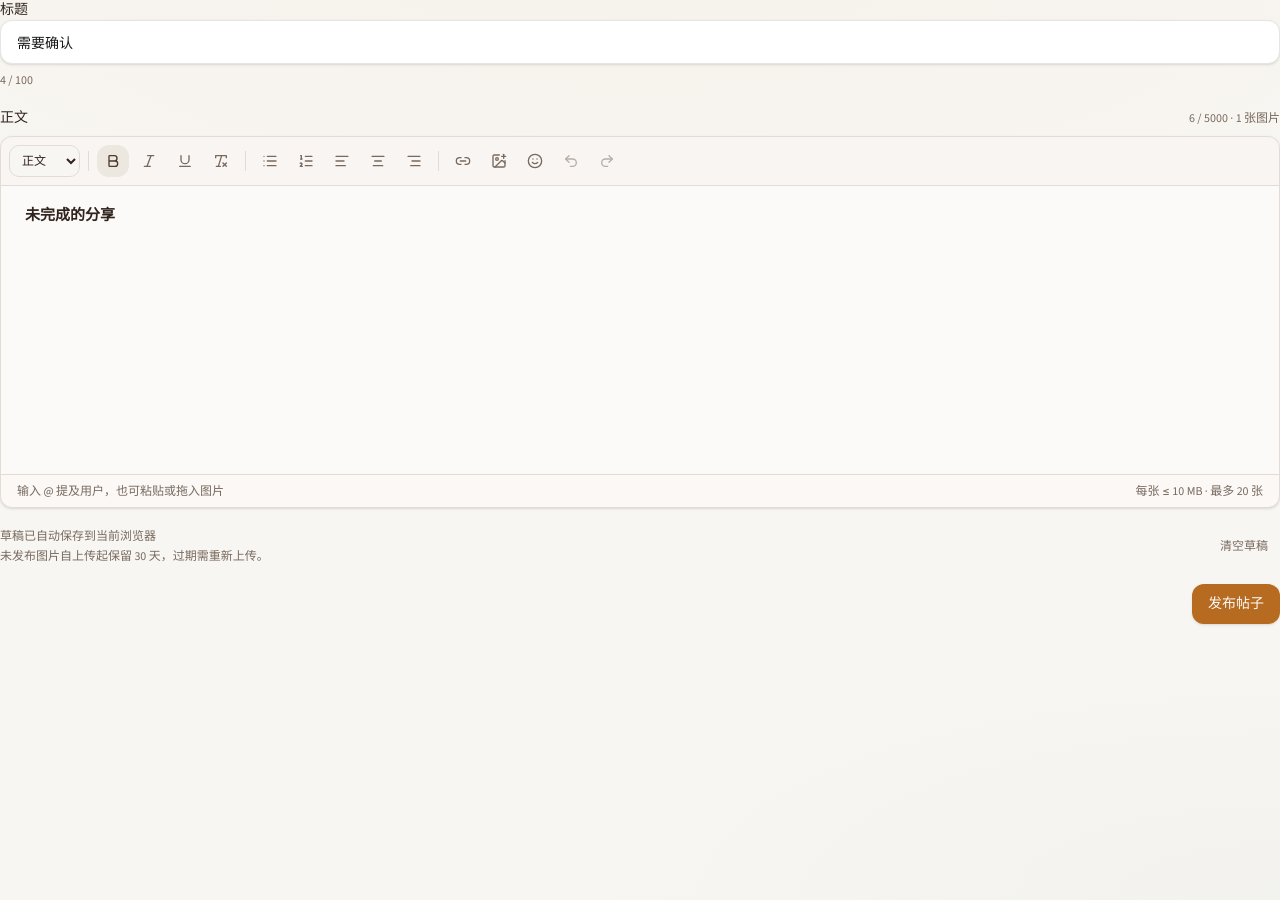
Test: requires confirmation before discarding a draft
Click the button "清空草稿" at (1244, 546), box 1208,530 -> 1279,562
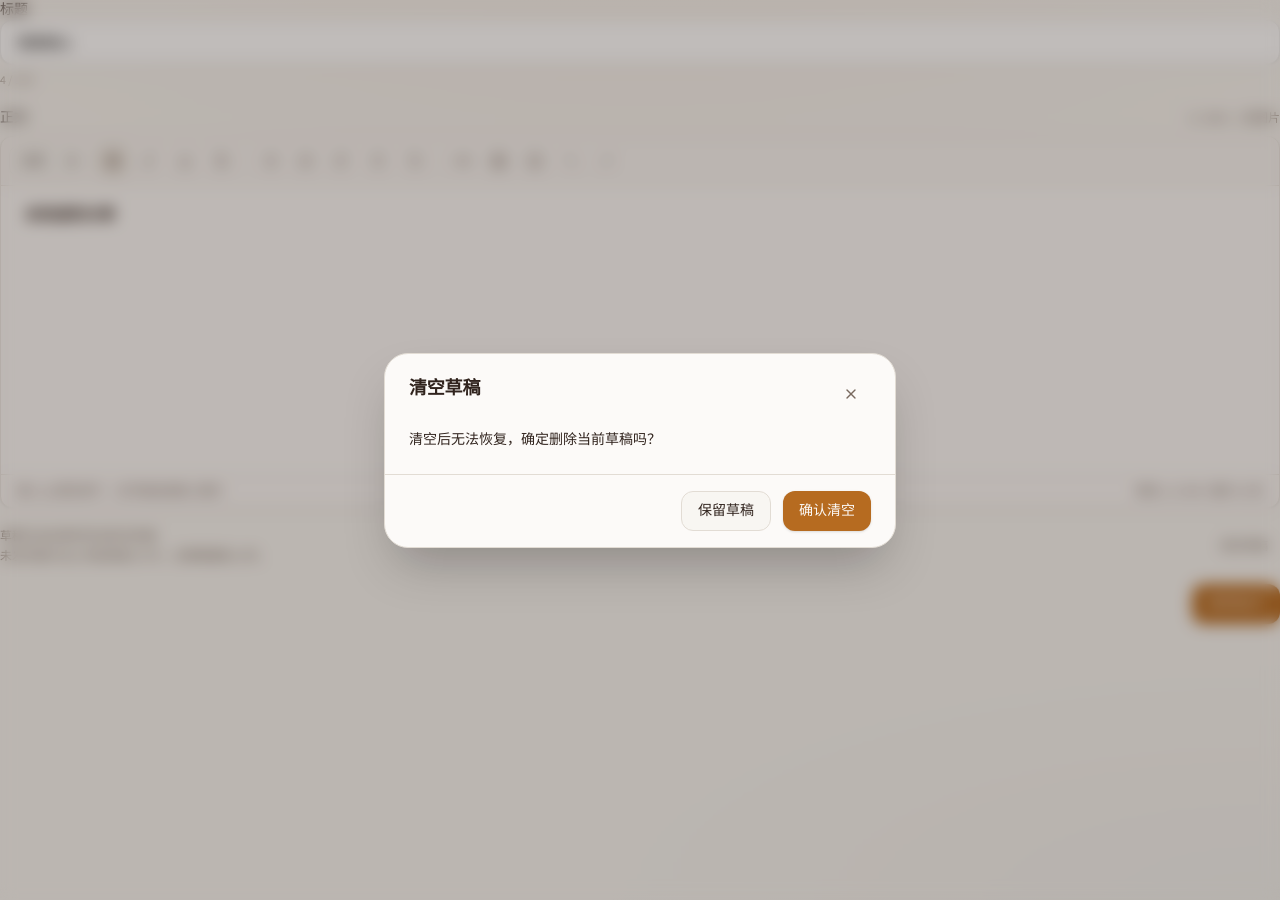
Click the button "确认清空" at (827, 510), box 783,490 -> 871,530
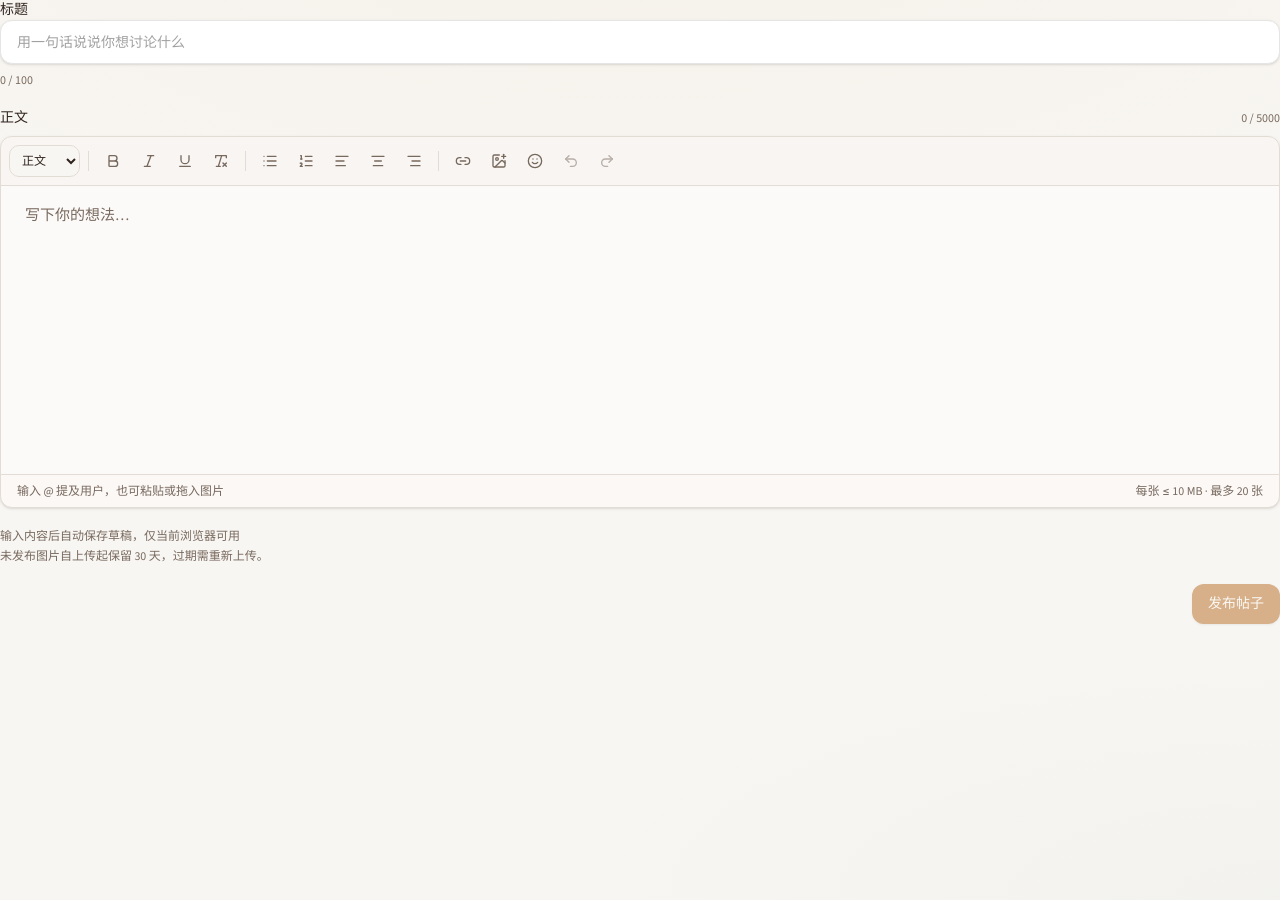
Check: the field labelled "标题" is empty, box 0,20 -> 1279,64
